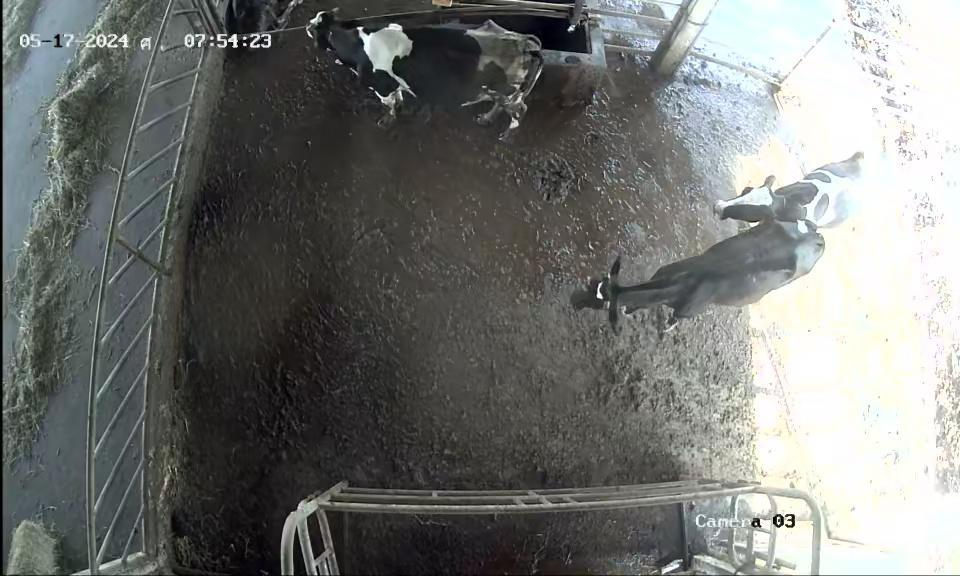stand: (537, 218, 834, 346), (296, 15, 554, 148), (701, 119, 882, 231)
